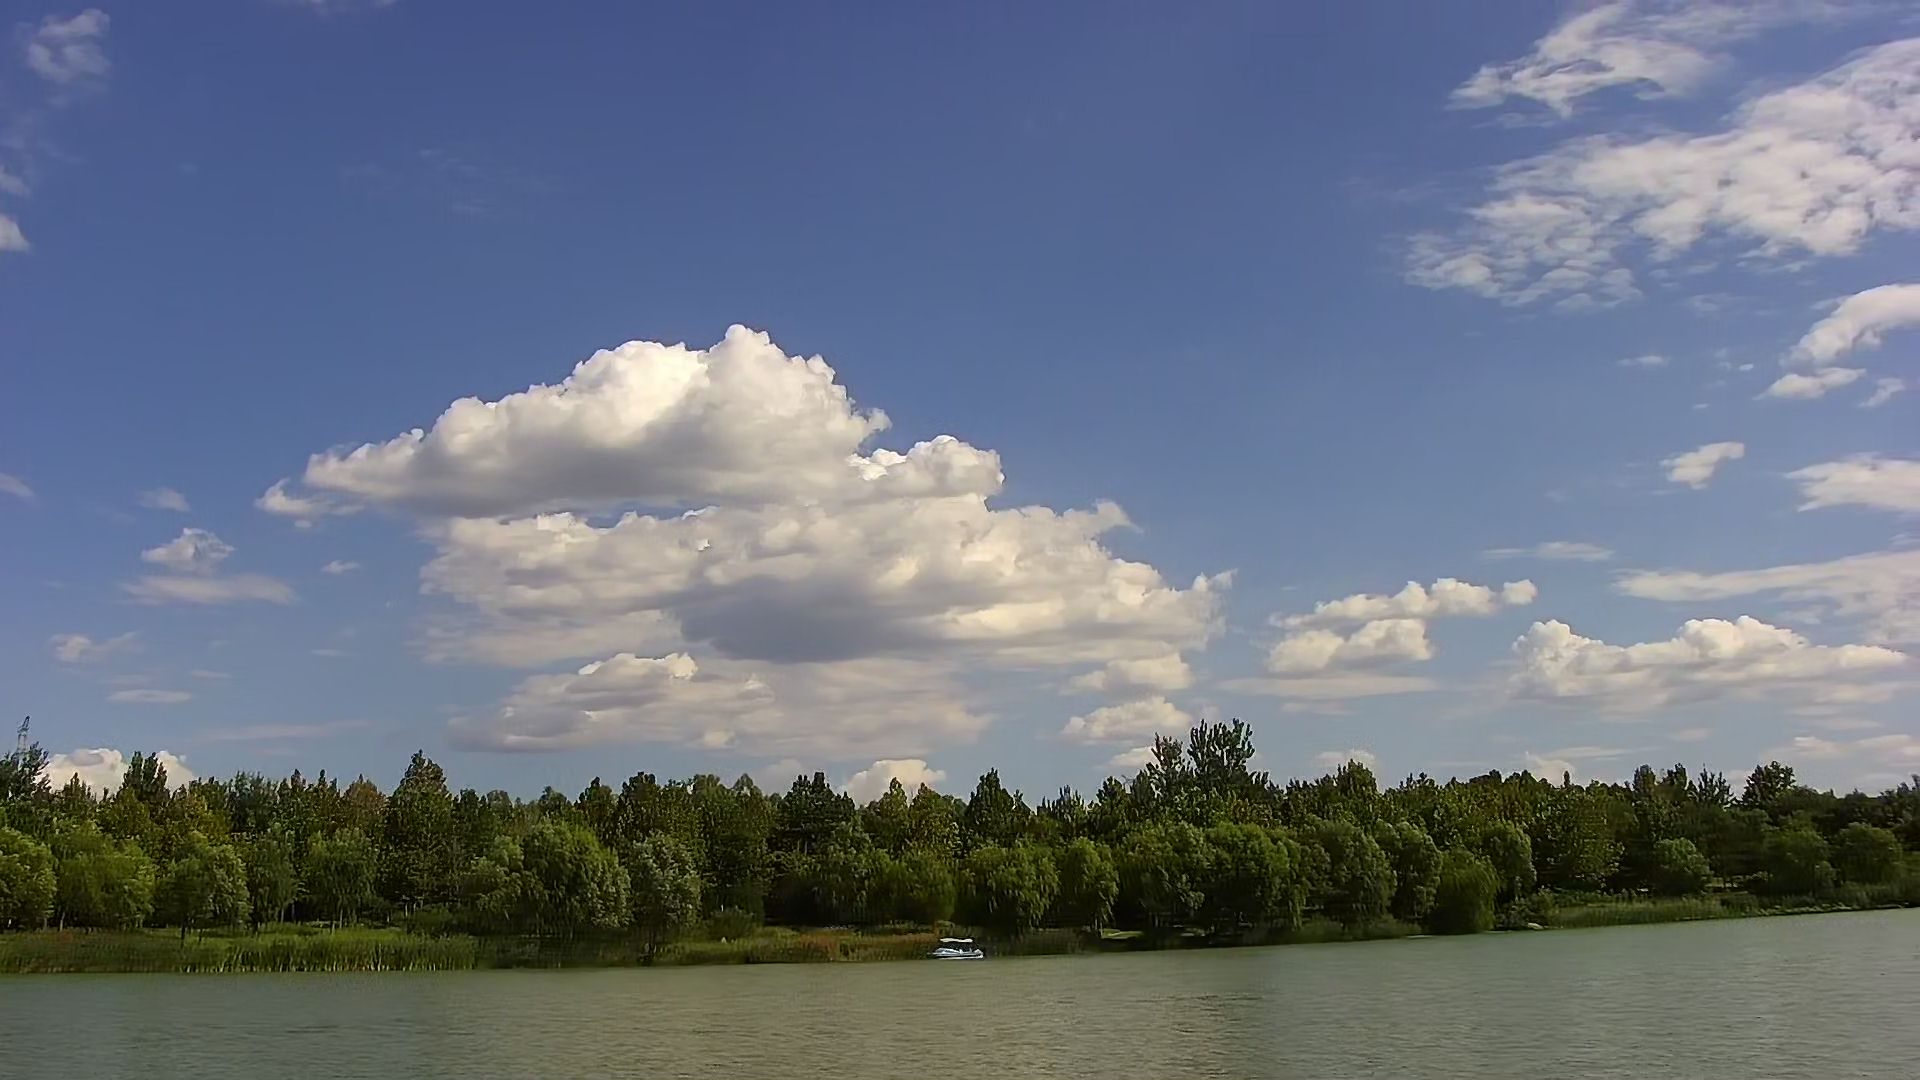boat: (926, 935, 982, 963)
